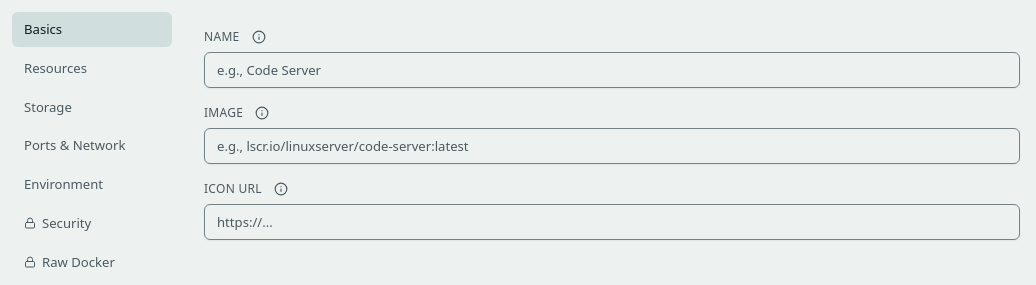
Scenario: TemplateBuilder › non-admin sees Security section controls locked
The width and height of the screenshot is (1036, 285).
Click the button "Security".
click(92, 223)  # box left=12, top=206, right=172, bottom=241
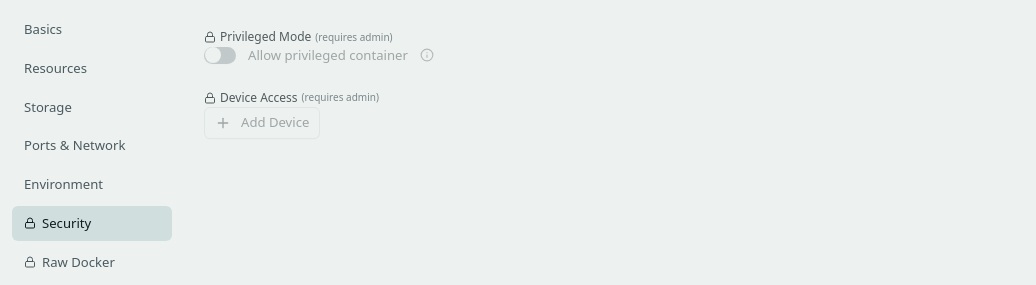
Now the text "(requires admin)" next to "Privileged Mode" is shown, box left=315, top=30, right=393, bottom=44
